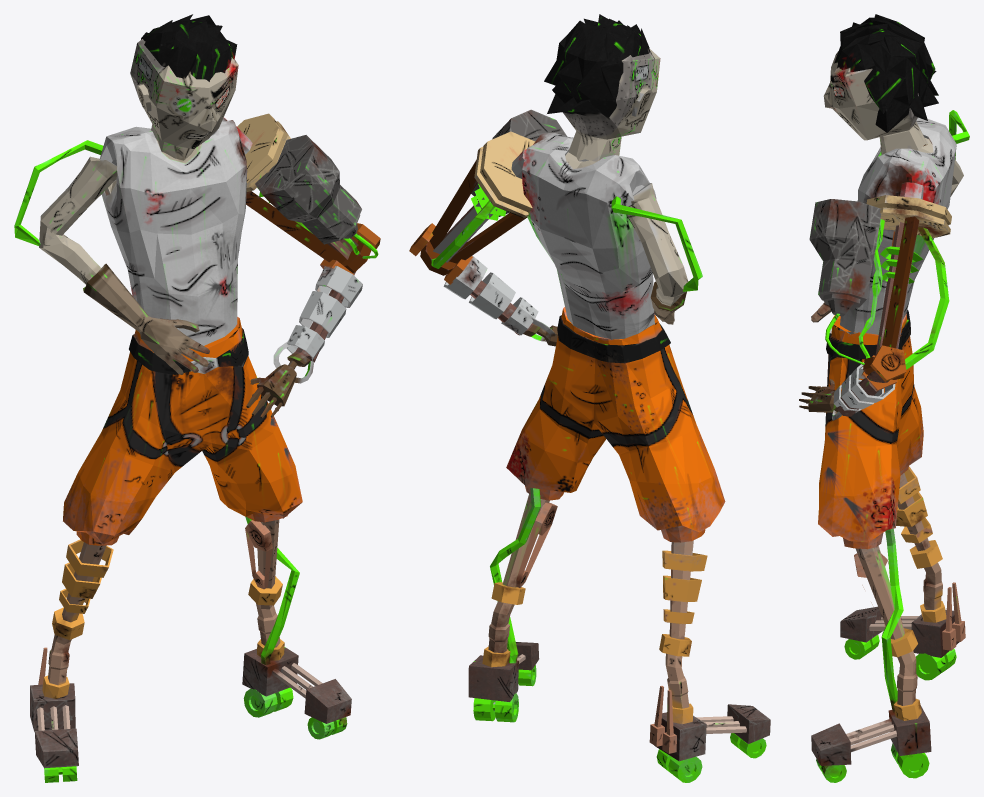
The model's file is CyborgFINALAnimation_000046.obj.
The picture shows the model from 3 angles, left to right: view 1: azimuth 30°, elevation 25°; view 2: azimuth 150°, elevation 25°; view 3: azimuth 270°, elevation 25°; orthographic projection. The views are drawn at different scales.
Parts seen in each view (by area): view 1: CyborgMesh_Cube.002; view 2: CyborgMesh_Cube.002; view 3: CyborgMesh_Cube.002.
Boxes of the visible parts, x1,y1,x2,y2 form: CyborgMesh_Cube.002: [14, 14, 380, 782]; CyborgMesh_Cube.002: [409, 14, 770, 782]; CyborgMesh_Cube.002: [799, 14, 969, 782].
Bounding box in the file's own units: 4.84 × 9.59 × 2.11.
